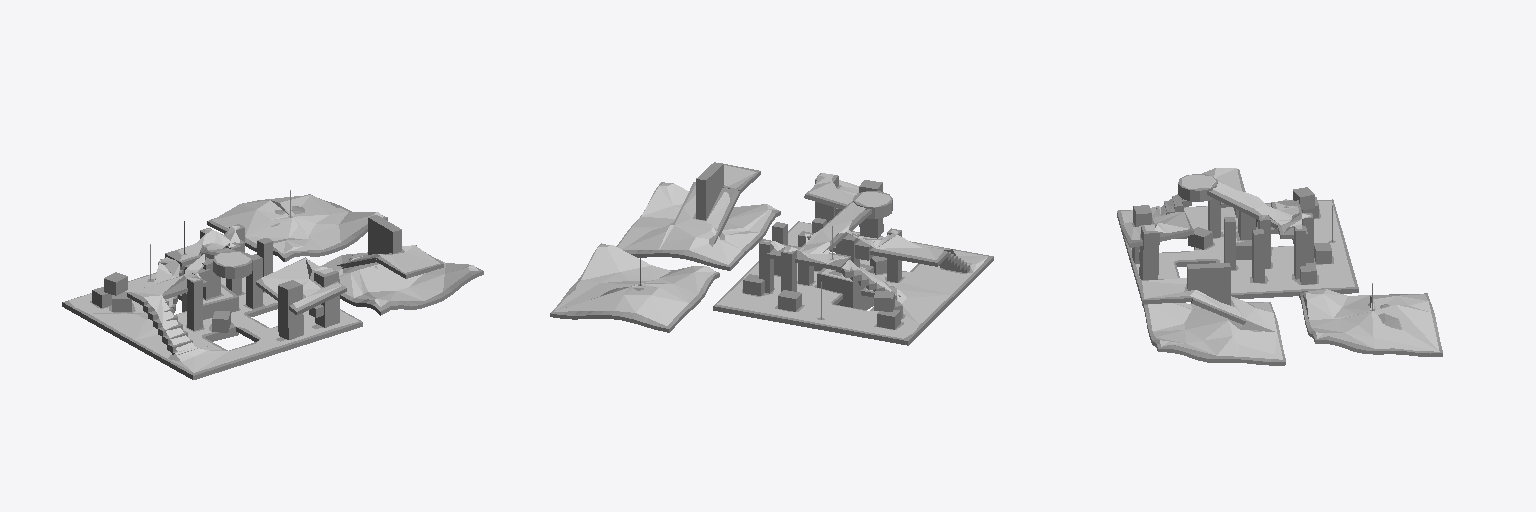
Rendered from level.obj.
The picture shows the model from 3 angles: view 1: azimuth 30°, elevation 25°; view 2: azimuth 150°, elevation 25°; view 3: azimuth 270°, elevation 25°; orthographic projection.
Parts seen in each view (by area): view 1: Navmesh, Cube.001, Cube; view 2: Navmesh, Cube.001, Cube; view 3: Navmesh, Cube.001.
Part boxes in pixels (x1,y1,x2,y2): Navmesh: (69, 195, 478, 372); Cube.001: (62, 190, 483, 379); Cube: (182, 284, 238, 341); Navmesh: (554, 165, 987, 338); Cube.001: (550, 162, 993, 345); Cube: (817, 263, 873, 309); Navmesh: (1121, 168, 1439, 359); Cube.001: (1117, 169, 1442, 365).
Bounding box in the file's own units: 18.28 × 5.14 × 15.47.